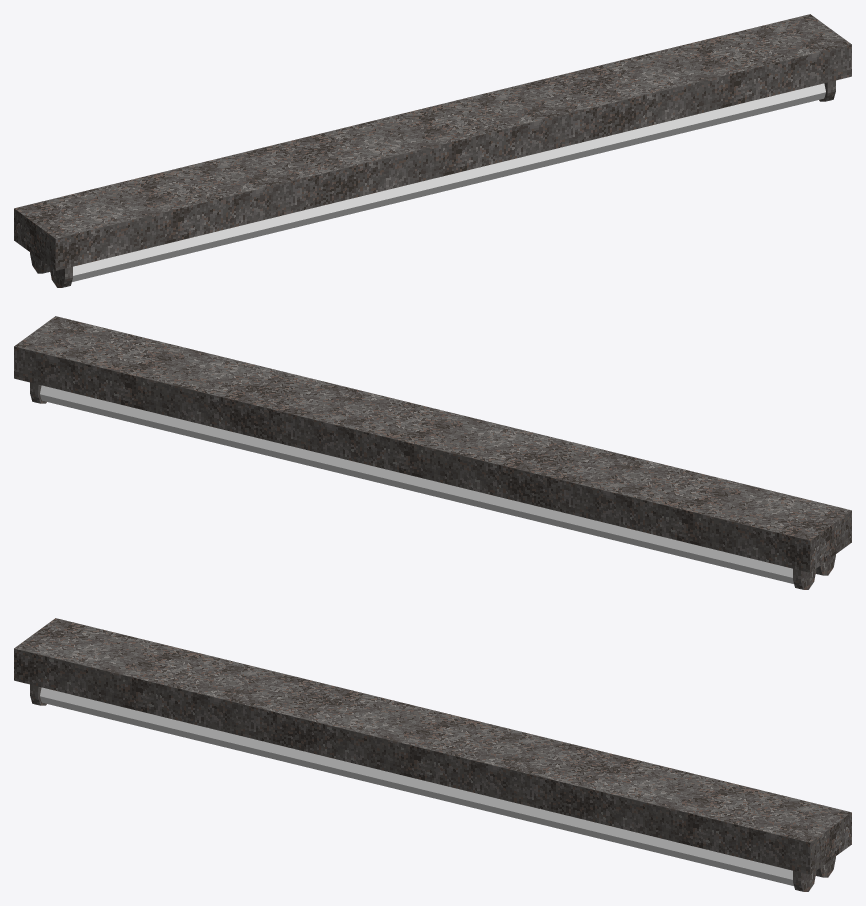
File: florecent.glb
The picture shows the model from 3 angles, top to bottom: view 1: azimuth 30°, elevation 25°; view 2: azimuth 150°, elevation 25°; view 3: azimuth 330°, elevation 25°; orthographic projection.
Parts seen in each view (by area): view 1: base, Cylinder, Cylinder.001; view 2: base, Cylinder, Cylinder.001; view 3: base, Cylinder, Cylinder.001.
Boxes of the visible parts, x1,y1,x2,y2 form: base: (14,14,851,270); Cylinder: (72,83,825,281); Cylinder.001: (30,80,835,287); base: (14,316,851,572); Cylinder: (40,385,793,583); Cylinder.001: (30,382,835,589); base: (14,618,851,874); Cylinder: (40,687,793,885); Cylinder.001: (30,684,835,891).
Size of the model in its own units: 2.77 by 0.2006 by 0.2509.
Materials: 1 (1 with a texture image).
